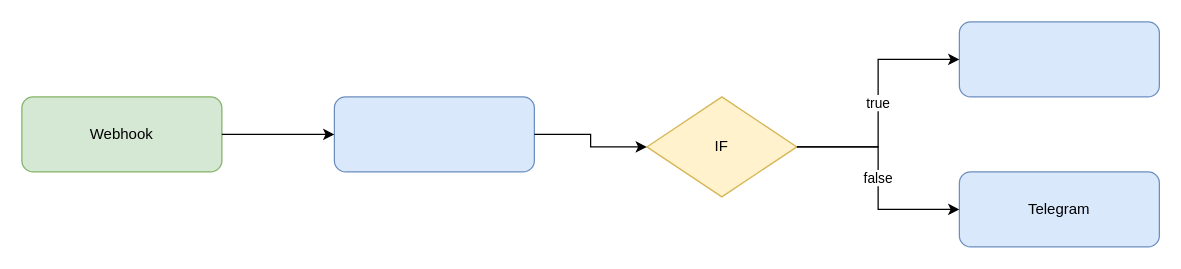
This 1181x269 diagram has some shape labels left out. Here are the shapes that lost their labels. From the top down, the centre of each, then its label:
At point 1058,59: "Google Sheets".
At point 433,134: "HTTP Request".
